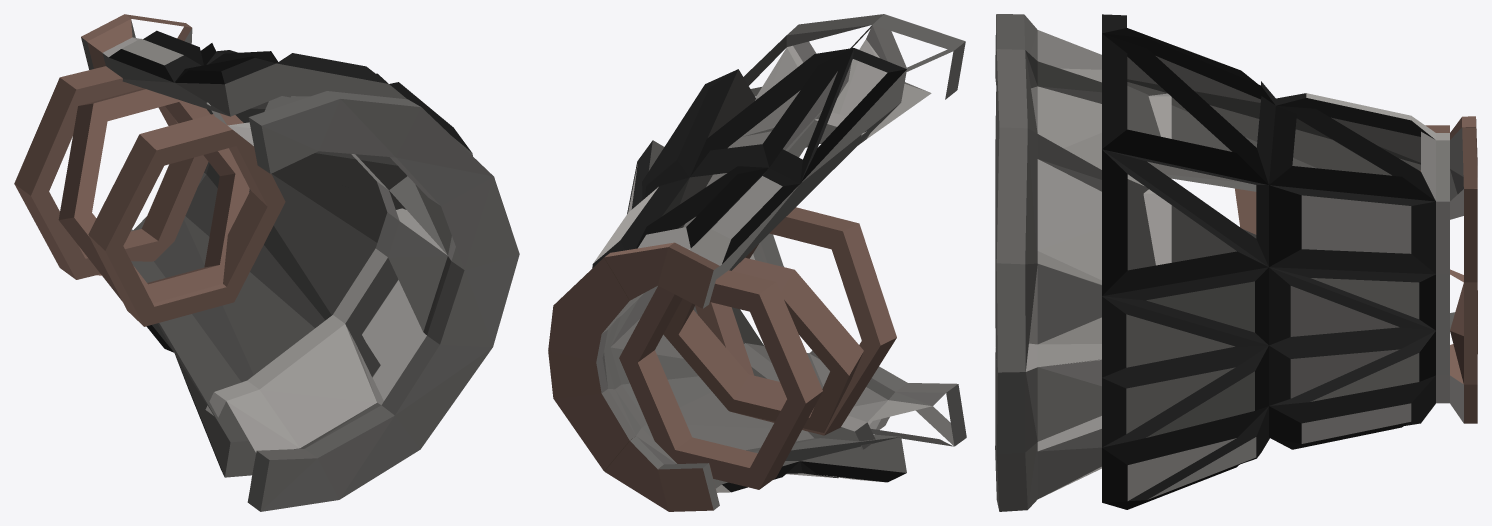
Rendered from helm_barred.glb.
3 renders of one model, left to right at view 1: azimuth 30°, elevation 25°; view 2: azimuth 150°, elevation 25°; view 3: azimuth 270°, elevation 25°, orthographic. The views are drawn at different scales.
Parts seen in each view (by area): view 1: group408848576; view 2: group408848576; view 3: group408848576.
Part boxes in pixels (x1=…): group408848576: x1=14, y1=14, x2=519, y2=511; group408848576: x1=548, y1=14, x2=966, y2=511; group408848576: x1=995, y1=14, x2=1477, y2=511.
Size of the model in its own units: 0.1276 by 0.1587 by 0.1504.
